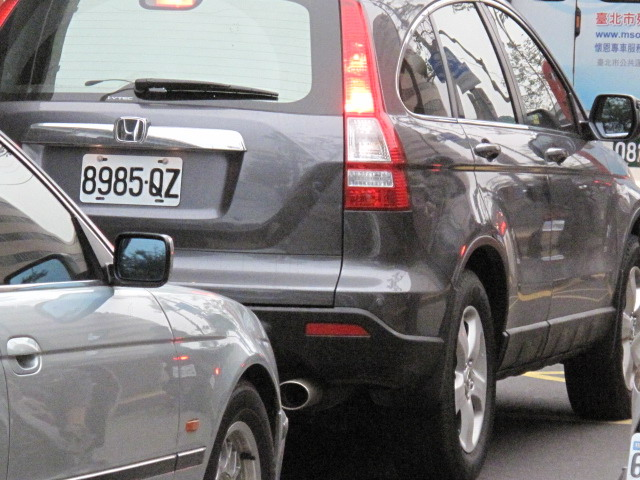plate: (78, 149, 186, 209)
